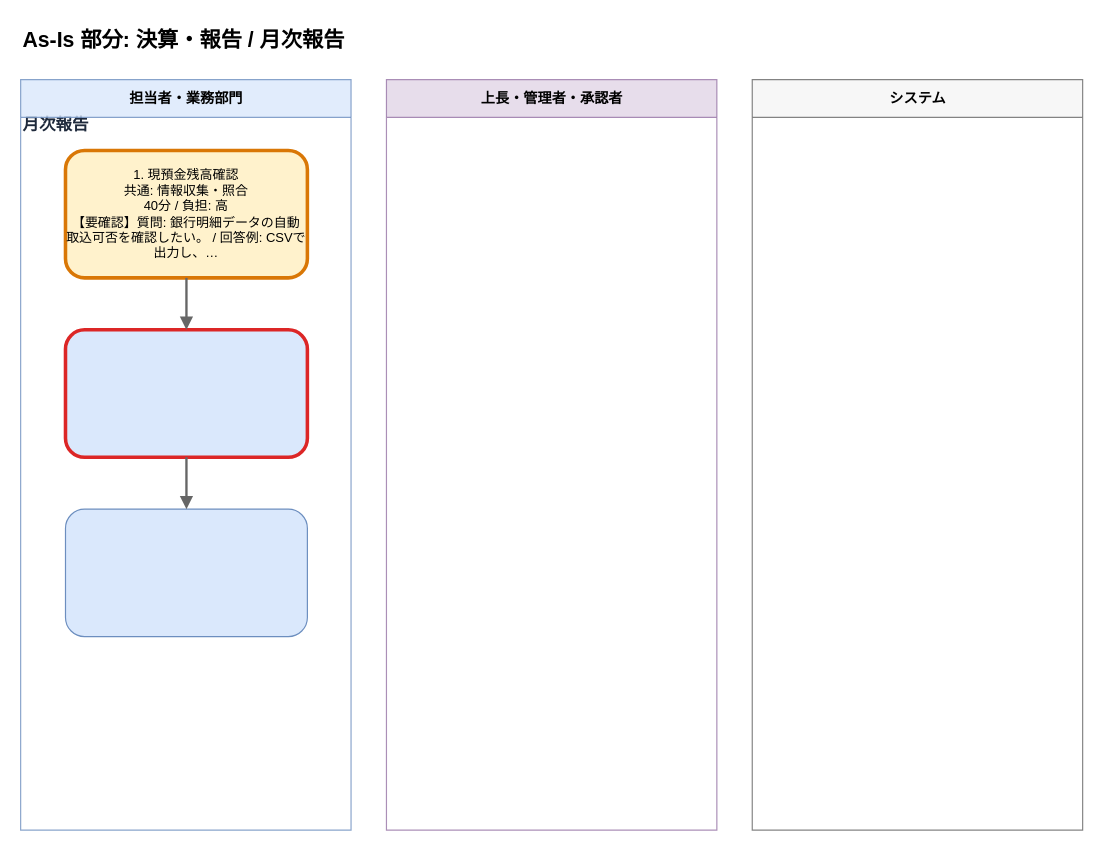
This 1103x851 diagram has some shape labels left out. The centre of each missing label's shape, as x and y in pixels:
2. 月次試算表作成 共通: 計算・作成 60分 / 負担: 高: point 186,392
3. 月次報告 共通: 報告・提出 30分 / 負担: 中: point 185,572
